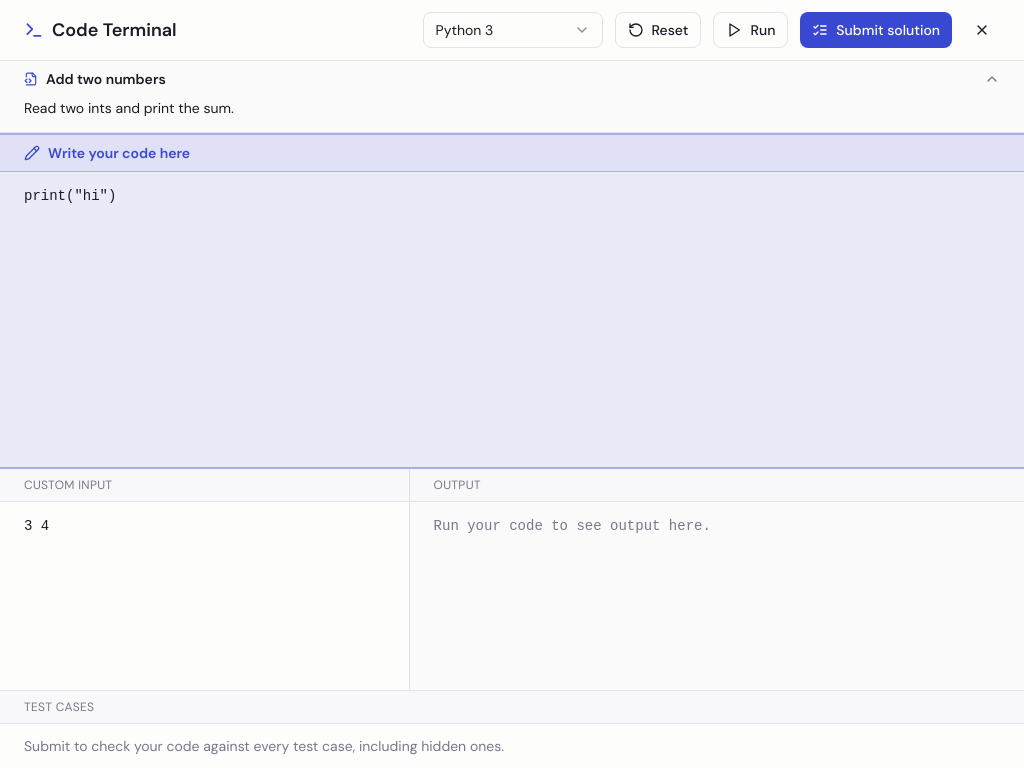
it: CodingTerminalWidget submission › pre-fills custom input and sends it with Run
This screenshot has width=1024, height=768.
Expected: the text box named "Custom input" holds "3 4", [0,502,409,690]
Click the button "Run" at [751, 30], box [713,12,788,48]
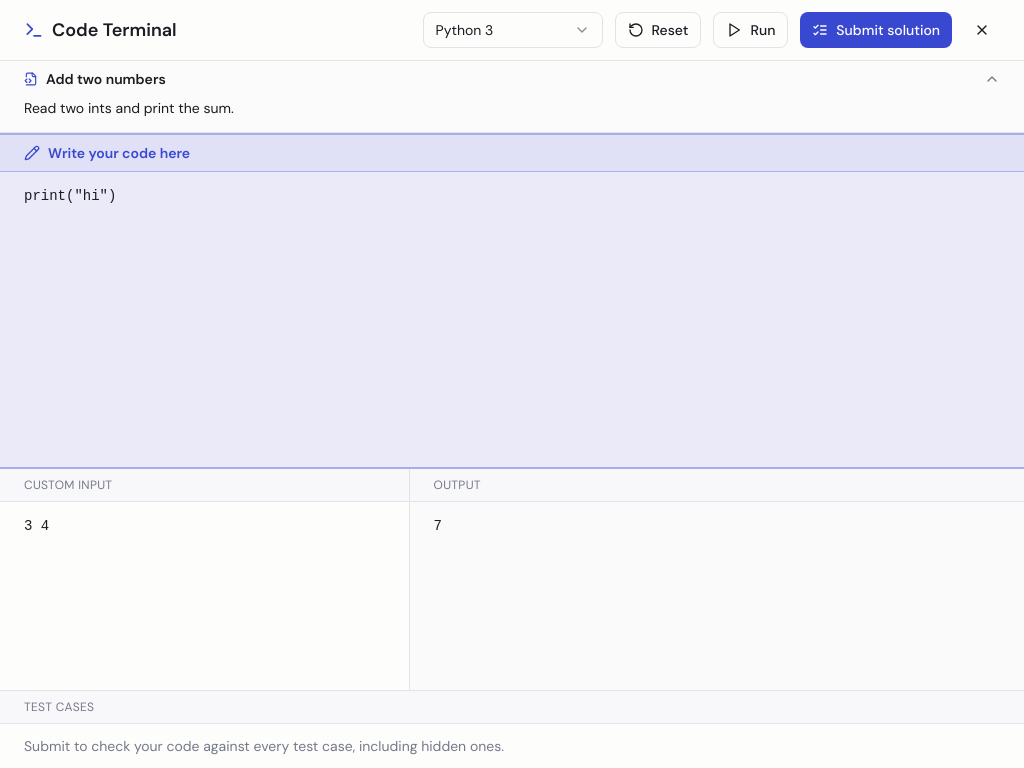
Result: the text "7" is shown at [434,518,442,534]
